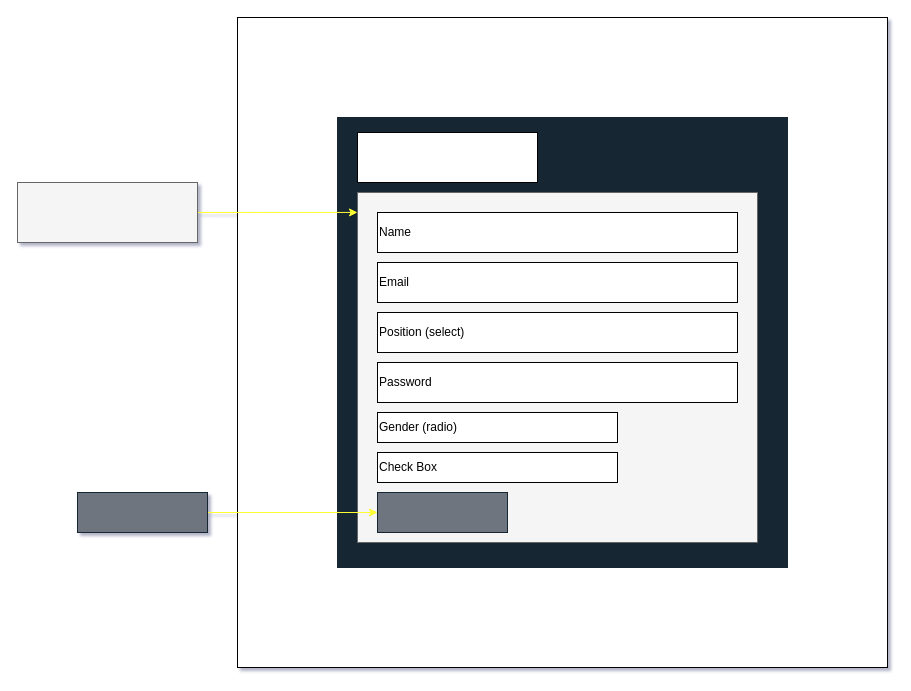
The diagram is 911 pixels wide and 691 high, and some of its shapes have lost their labels. Here are the shapes that lost their labels. From the top down, the box of each, then its label:
(356, 132, 538, 182): Title div
(16, 182, 198, 242): Form div display:flex; flex-direction:column
(76, 492, 208, 532): Buttoon
